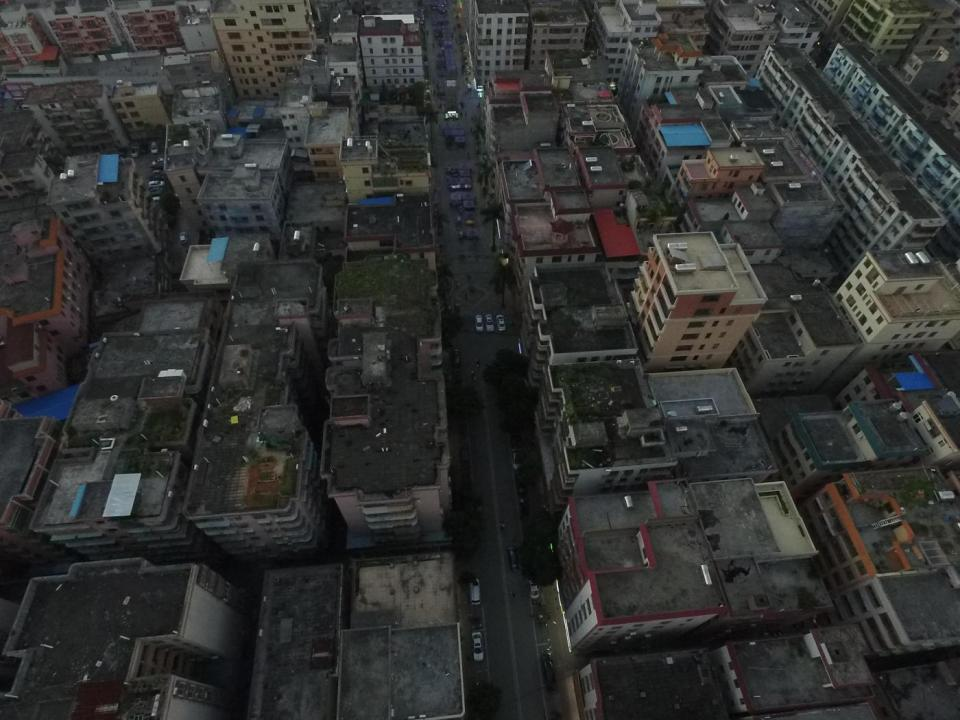car: (541, 654, 557, 690), (471, 632, 484, 662), (508, 545, 519, 571), (470, 577, 480, 605), (512, 445, 523, 470), (528, 576, 539, 600), (138, 138, 149, 155), (485, 314, 494, 332), (497, 314, 506, 331), (178, 231, 188, 246), (150, 186, 166, 195), (149, 163, 168, 170), (150, 141, 160, 154), (476, 315, 484, 331), (118, 146, 127, 160), (147, 174, 168, 180), (152, 157, 168, 164), (151, 169, 166, 175)
van: (148, 180, 165, 188), (131, 142, 138, 158)
